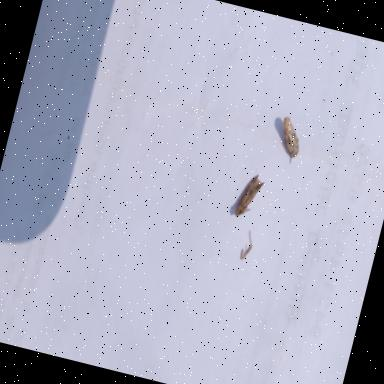pbw: (234, 171, 266, 223), (274, 116, 306, 165)
